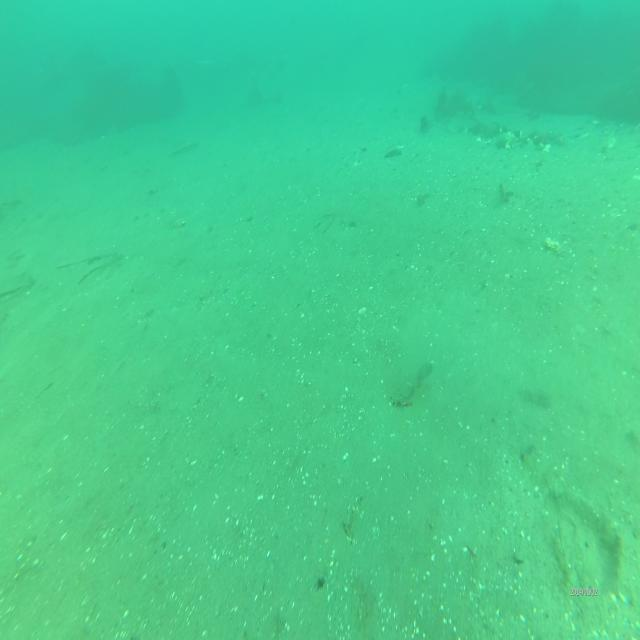scallop: (416, 362, 435, 389), (542, 228, 554, 253)
